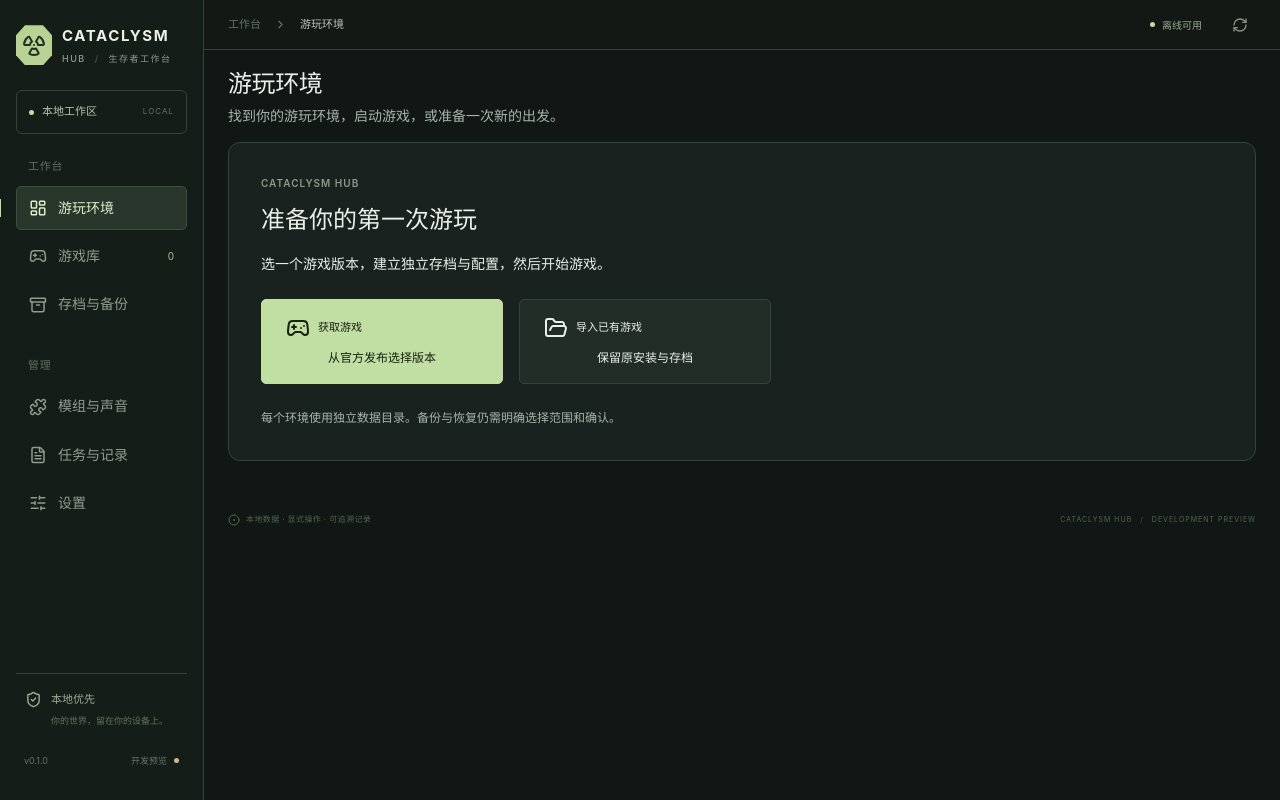
Test case: workspace and launch safety › explains signal termination without asserting Gatekeeper rejection
The width and height of the screenshot is (1280, 800).
Click the button "任务与记录" at (102, 455), box left=16, top=433, right=187, bottom=477
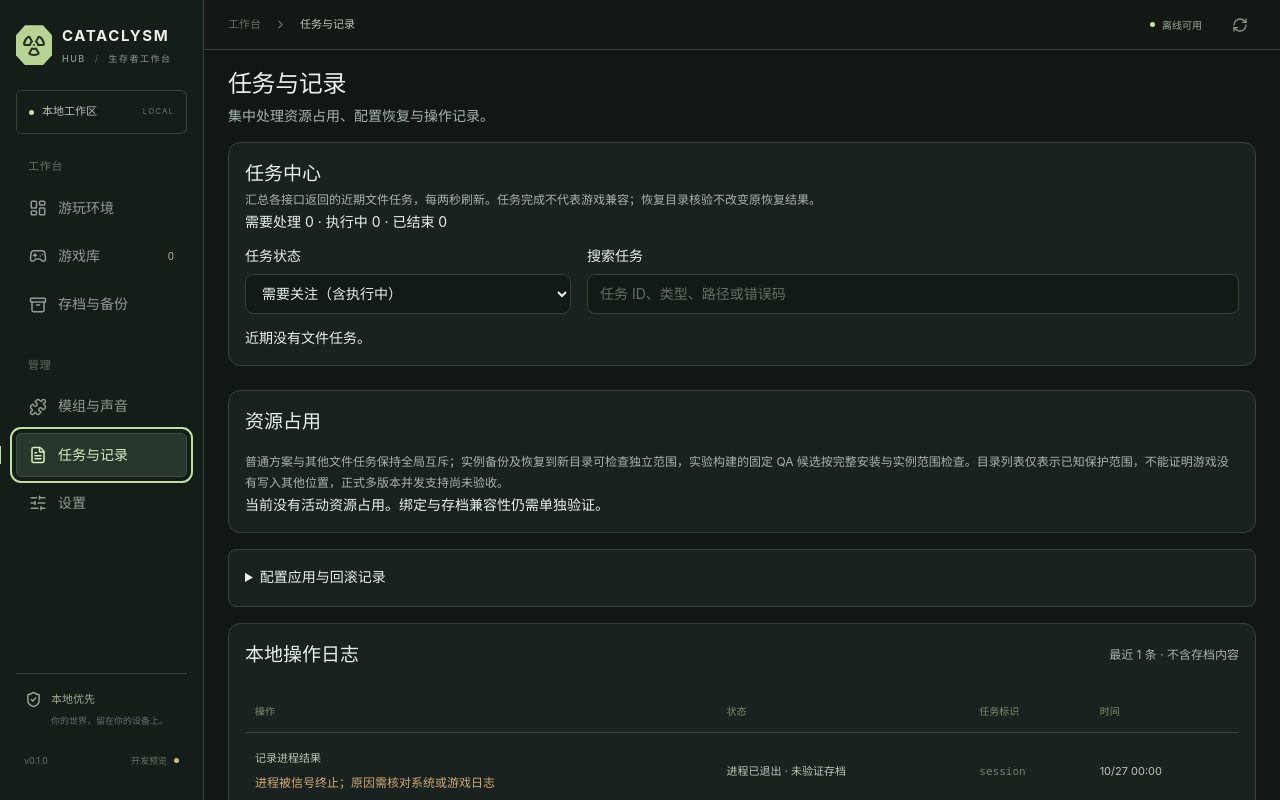
Check: the text "进程被信号终止；原因需核对系统或游戏日志" is shown, box left=255, top=775, right=495, bottom=790
